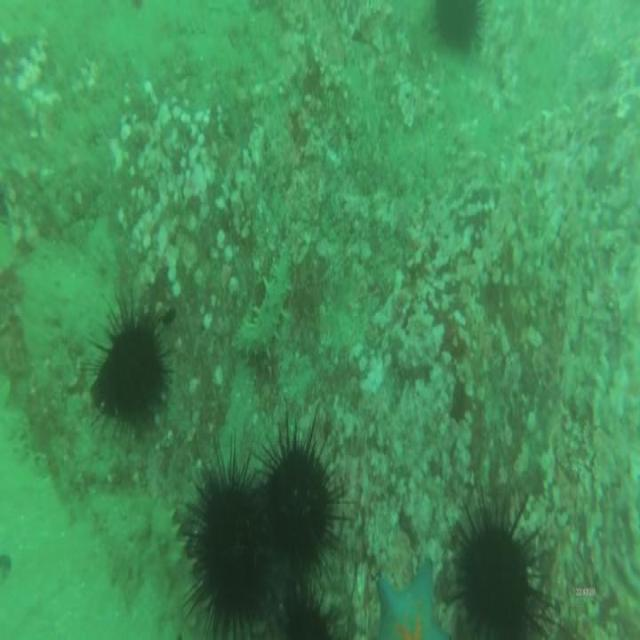echinus: (180, 436, 274, 637), (444, 480, 558, 640), (252, 409, 346, 583), (84, 290, 176, 450), (257, 581, 348, 640), (424, 0, 490, 58)
holothurian: (150, 496, 196, 640), (234, 245, 290, 359)
starfish: (369, 545, 445, 640)
